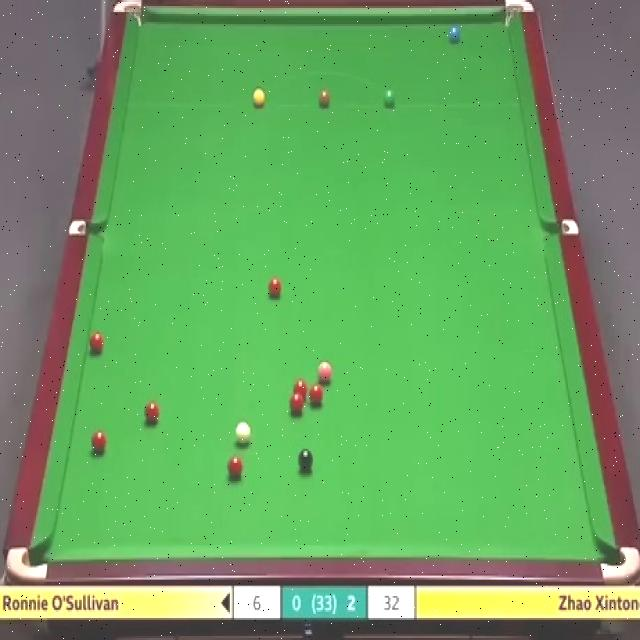black-ball: (298, 448, 313, 470)
blue-ball: (450, 25, 460, 46)
brown-ball: (318, 91, 331, 107)
green-ball: (382, 87, 397, 110)
pink-ball: (316, 359, 333, 381)
red-ball: (287, 392, 306, 416), (226, 454, 244, 478), (91, 431, 108, 456), (291, 378, 308, 402), (308, 385, 326, 407), (88, 330, 105, 352), (145, 401, 160, 424), (266, 277, 282, 297)
white-ball: (234, 421, 252, 447)
yellow-ball: (252, 88, 266, 108)
